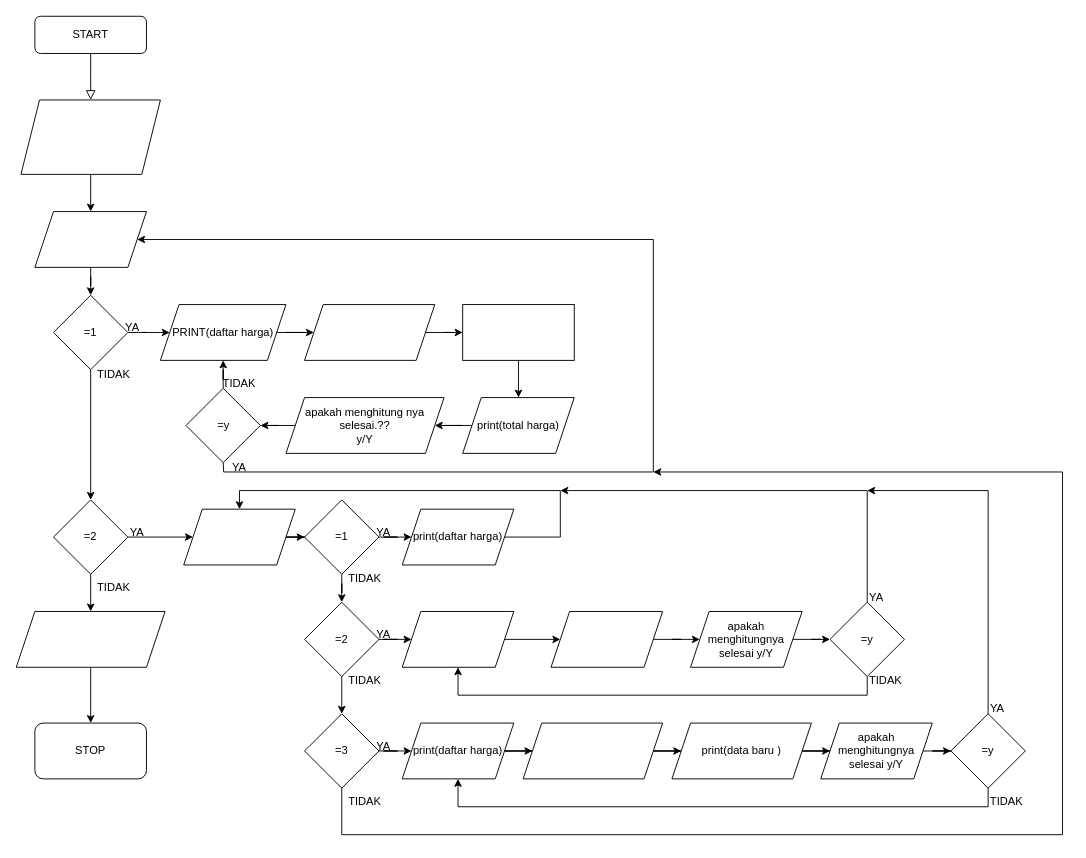
The diagram is 1086 pixels wide and 858 high, and some of its shapes have lost their labels. Here are the shapes that lost their labels. From the top down, the box of each, then its label:
(20, 99, 160, 174): PRINT(1.mnghitung 2.mengolah data 3.exit)
(34, 211, 146, 267): masukan pilihan
(304, 304, 435, 360): masukan barang yang ingin di jumlah
(462, 304, 574, 360): total harga= harga1 + harga2
(183, 508, 295, 565): print(1.melihat 2menambah 3.menghapus 4keluar)
(15, 611, 165, 667): print(program selesai)
(401, 611, 514, 667): masukan(nama, ukuran, harga.)
(550, 611, 663, 667): print(daftar baru)
(522, 722, 663, 779): pilih data yang mau di hapus
